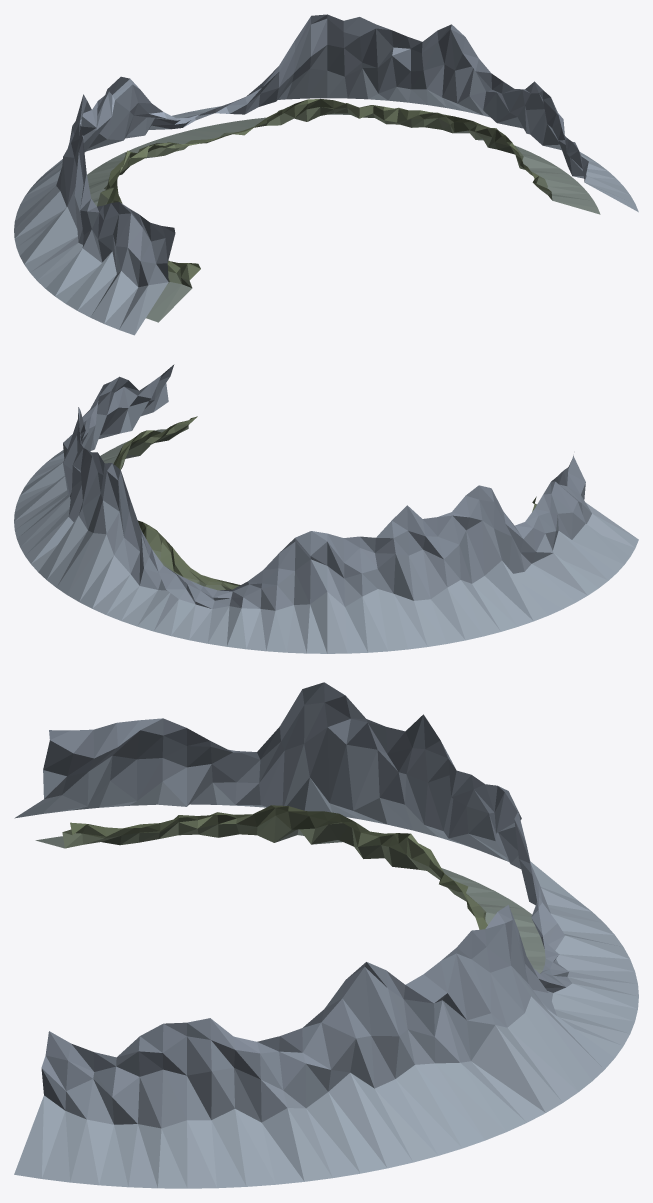
Rendered from hills.glb.
The picture shows the model from 3 angles, top to bottom: view 1: azimuth 30°, elevation 25°; view 2: azimuth 150°, elevation 25°; view 3: azimuth 270°, elevation 25°; orthographic projection. The views are drawn at different scales.
Visible parts, largest first — view 1: hills; view 2: hills; view 3: hills.
Part boxes in pixels (x1,y1,x2,y2): hills: [14, 14, 638, 335]; hills: [14, 364, 638, 653]; hills: [14, 682, 638, 1188].
Size of the model in its own units: 146 by 30.75 by 100.
